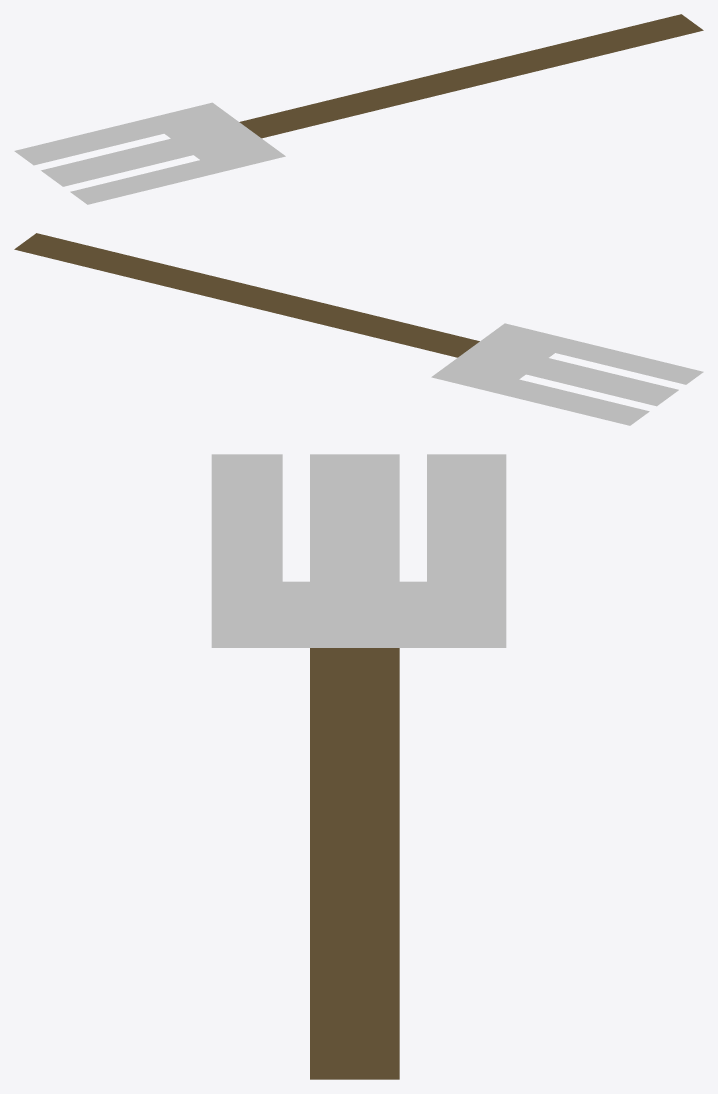
Rendered from fork.fbx.
3 views of the same model, one above another, from view 1: azimuth 30°, elevation 25°; view 2: azimuth 150°, elevation 25°; view 3: azimuth 270°, elevation 25° (orthographic). The views are drawn at different scales.
Visible parts, largest first — view 1: fork; view 2: fork; view 3: fork.
Boxes of the visible parts, left/top/right/bottom form: fork: left=14, top=14, right=703, bottom=204; fork: left=14, top=233, right=703, bottom=425; fork: left=211, top=454, right=506, bottom=1079.
Size of the model in its own units: 40.76 by 1.32e-06 by 8.11.
